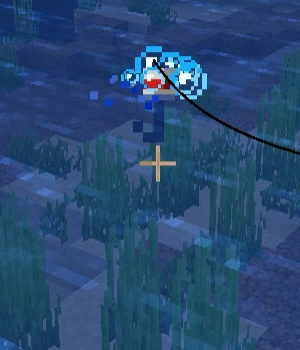up: (133, 65, 177, 144)
